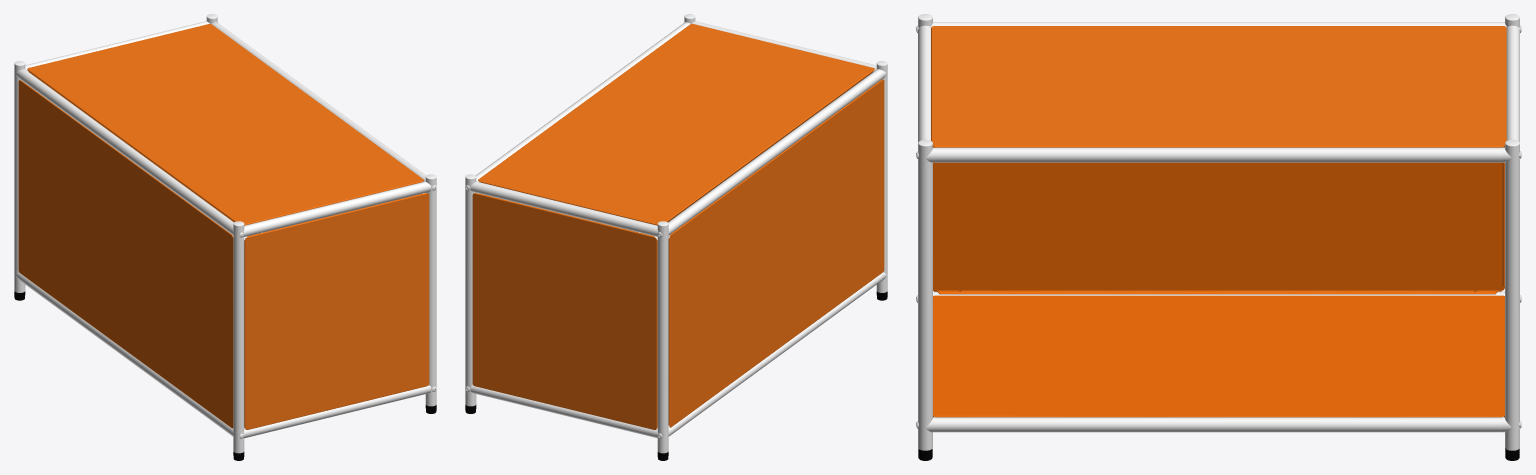
Rendered from 80x40x40-1-3-Orange_optimized.glb.
The picture shows the model from 3 angles, left to right: view 1: azimuth 30°, elevation 25°; view 2: azimuth 150°, elevation 25°; view 3: azimuth 270°, elevation 25°; orthographic projection. The views are drawn at different scales.
Parts seen in each view (by area): view 1: 直角鐵板-80x40-3 - 零件, 鐵管-1層-40-正常腳-32mm-4 - 零件; view 2: 直角鐵板-80x40-3 - 零件, 鐵管-1層-40-正常腳-32mm-4 - 零件; view 3: 直角鐵板-80x40-3 - 零件, 鐵管-1層-40-正常腳-32mm-4 - 零件.
Boxes of the visible parts, <box> form: 直角鐵板-80x40-3 - 零件: <box>18,23,429,429</box>; 鐵管-1層-40-正常腳-32mm-4 - 零件: <box>14,14,436,453</box>; 直角鐵板-80x40-3 - 零件: <box>472,23,884,429</box>; 鐵管-1層-40-正常腳-32mm-4 - 零件: <box>465,14,887,453</box>; 直角鐵板-80x40-3 - 零件: <box>931,26,1506,417</box>; 鐵管-1層-40-正常腳-32mm-4 - 零件: <box>916,14,1521,450</box>.
Bounding box in the file's own units: 0.3992 × 0.4453 × 0.7732.
